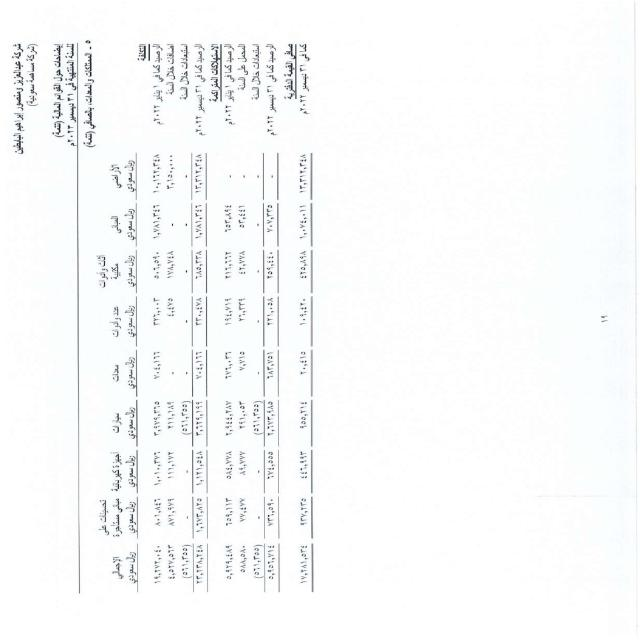notes: (47, 42, 65, 146)
table: (117, 41, 334, 598)
